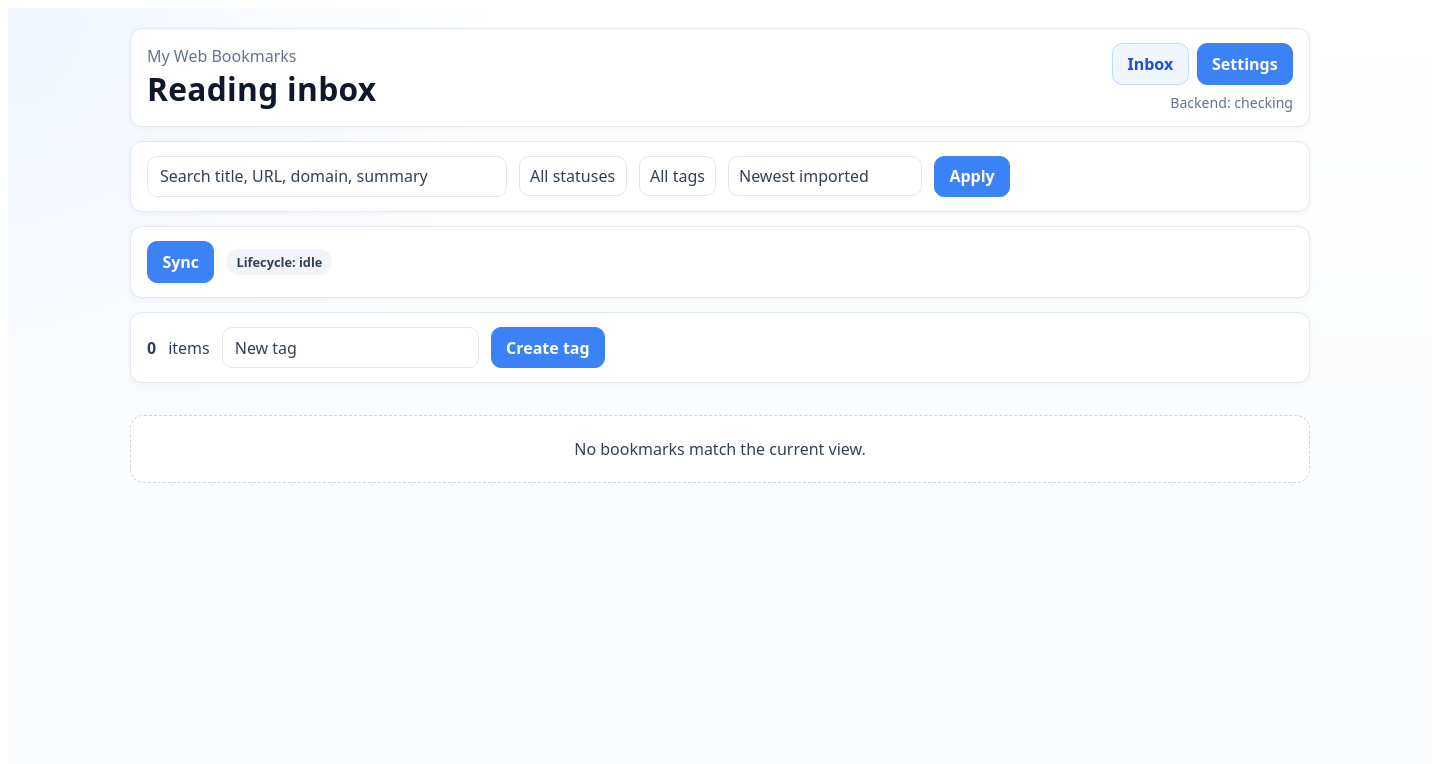
Scenario: App › preserves an existing configured API key when generating with an empty key field
Click the button "Settings" at (1245, 64), box [1197,43,1293,85]
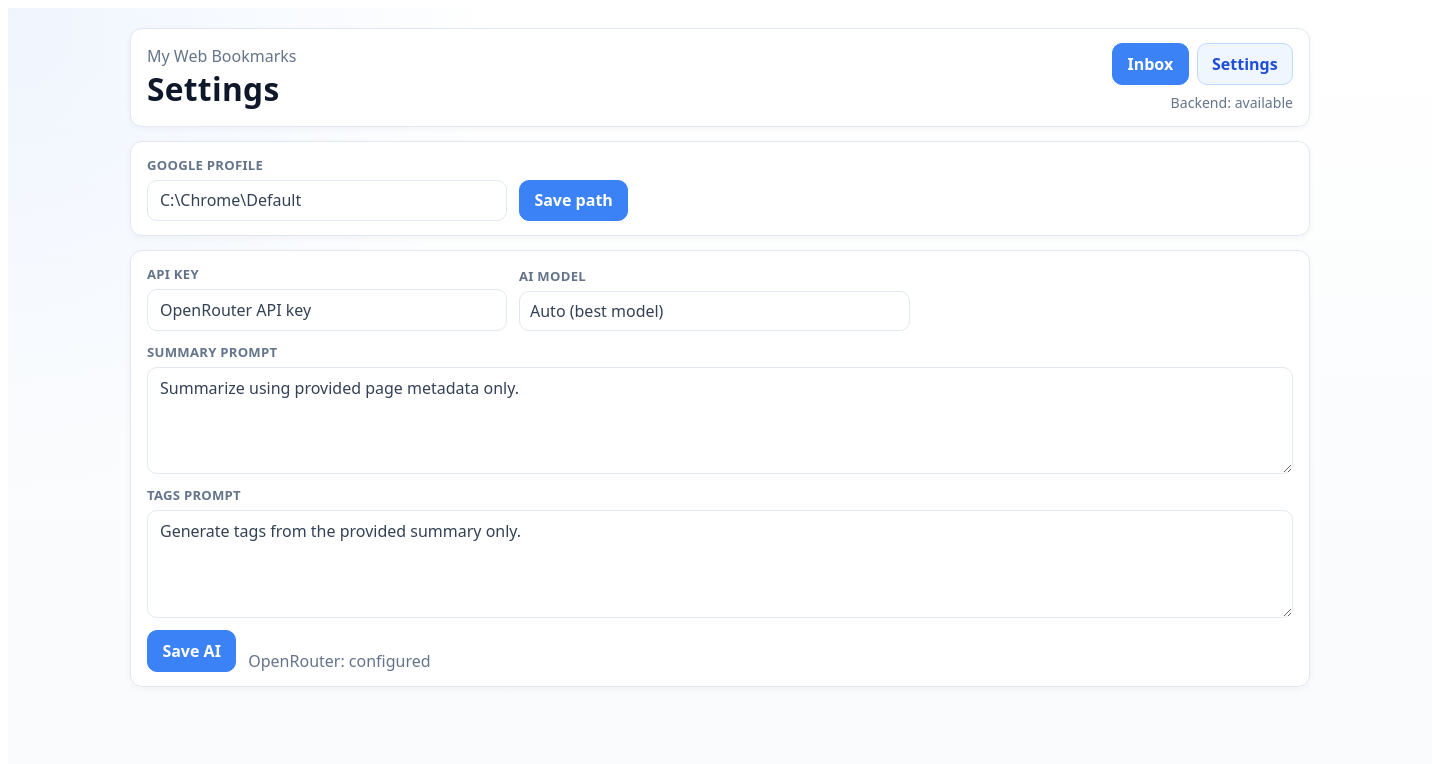
expect the text "OpenRouter: configured" is shown: met, box [248,650,431,672]
Click the button "Inbox" at (1150, 64), box [1112,43,1189,85]
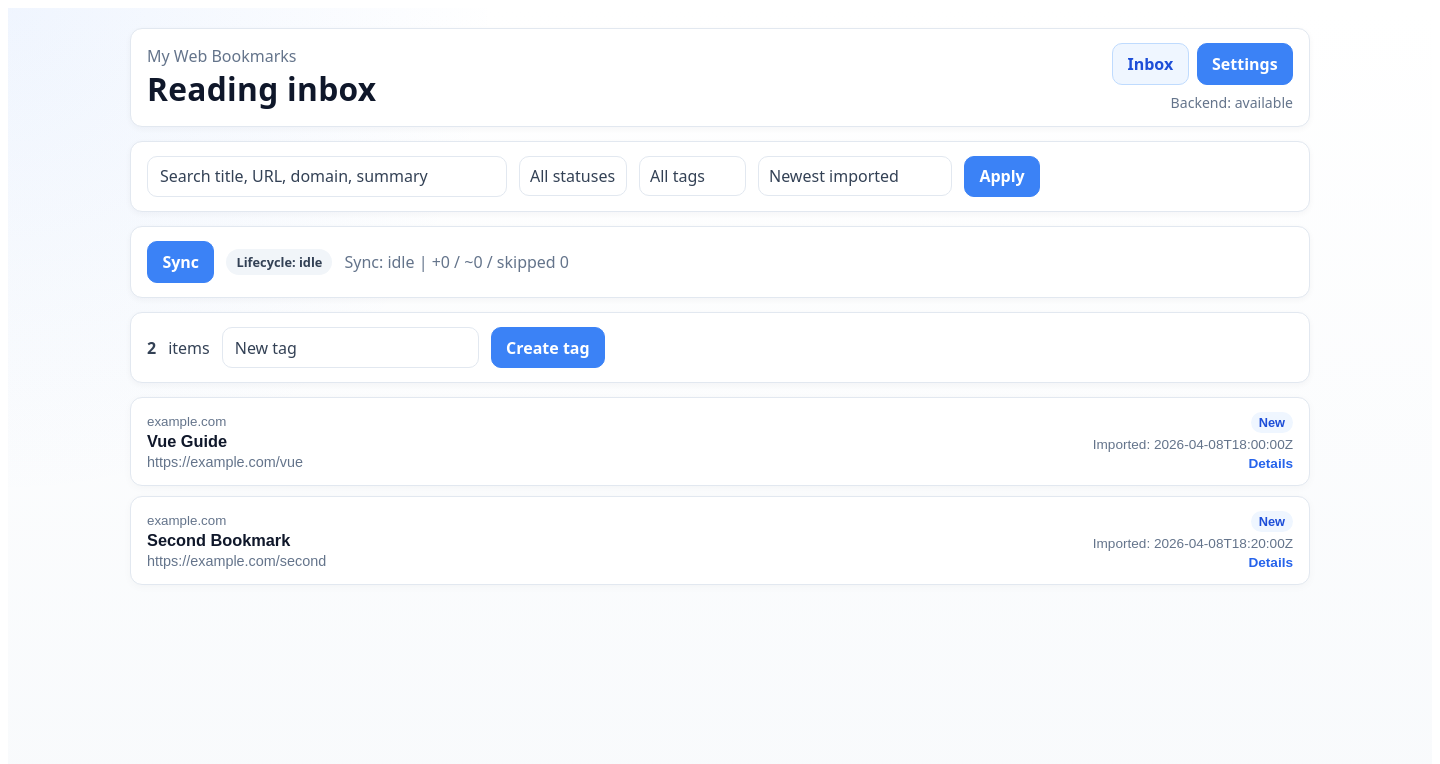
Click the button with aria-label "Toggle details for Vue Guide" at (187, 421), box [131,398,1309,485]
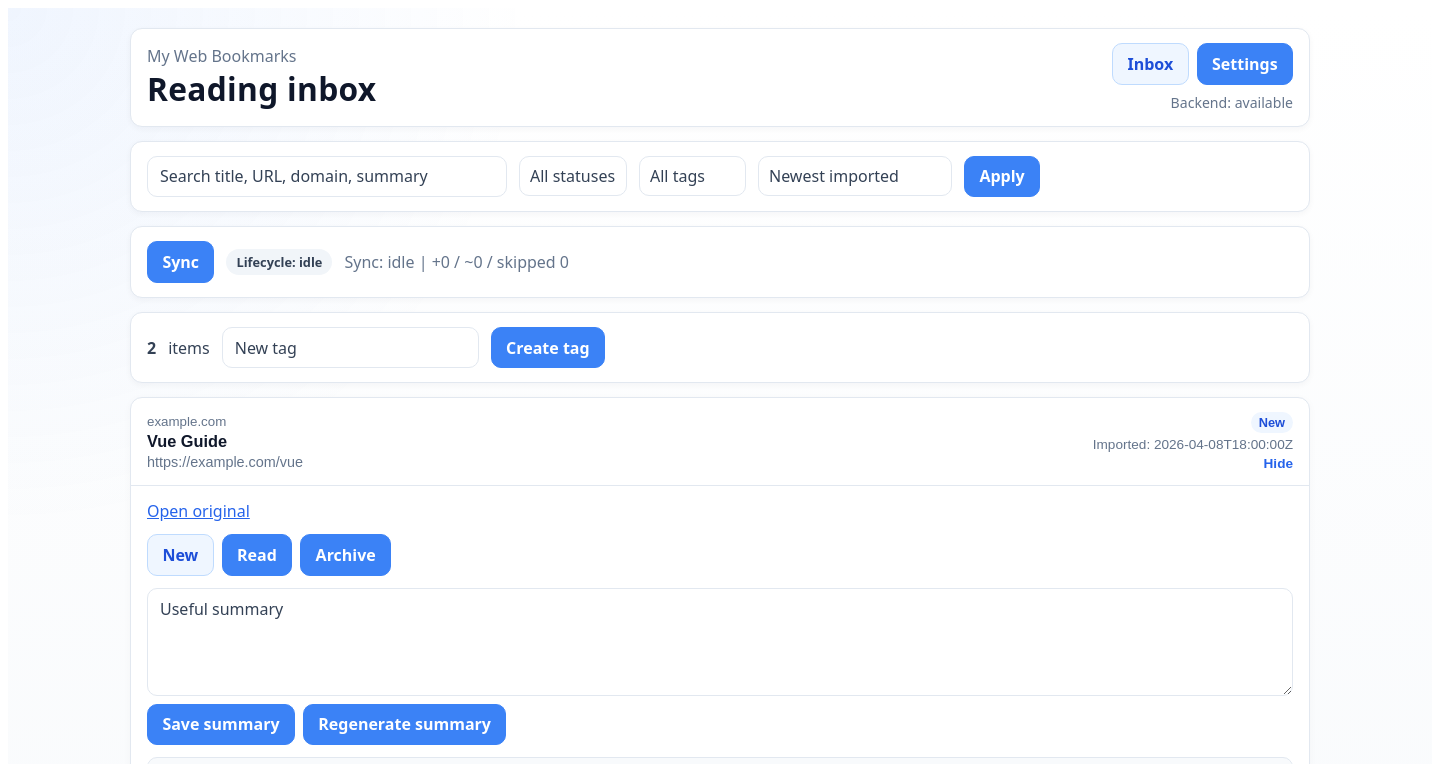
Click the button with aria-label "Generate summary for Vue Guide" at (405, 724), box [303,704,506,745]
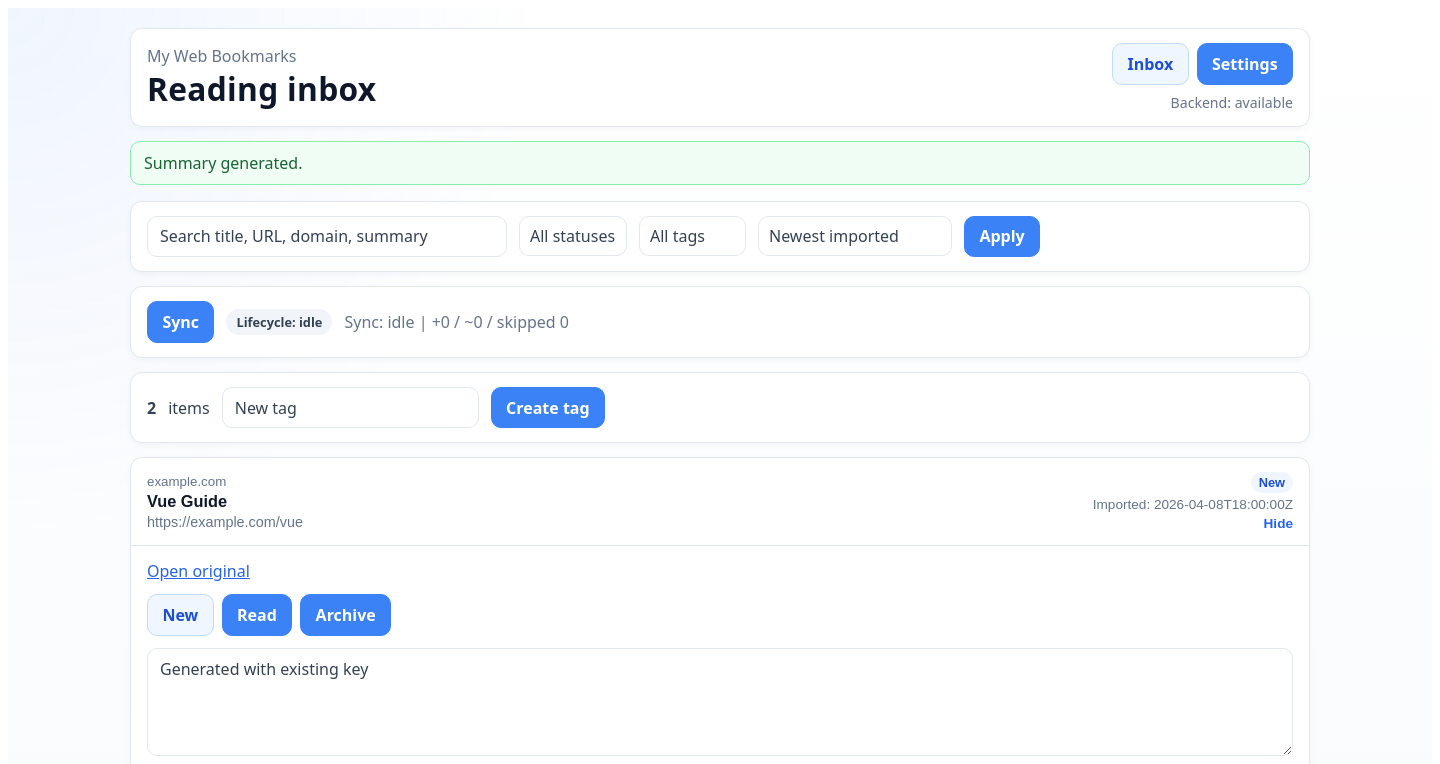
expect the text box named "Summary for Vue Guide" holds "Generated with existing key": met, box [147,648,1293,756]
